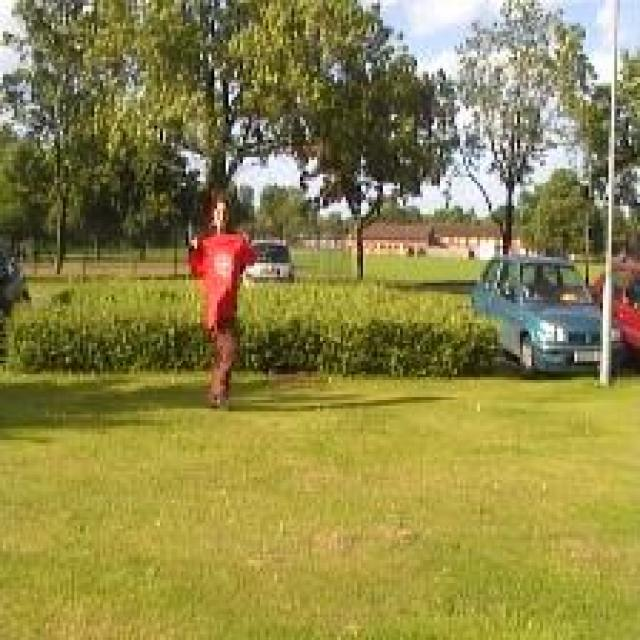other: (192, 225, 258, 325)
